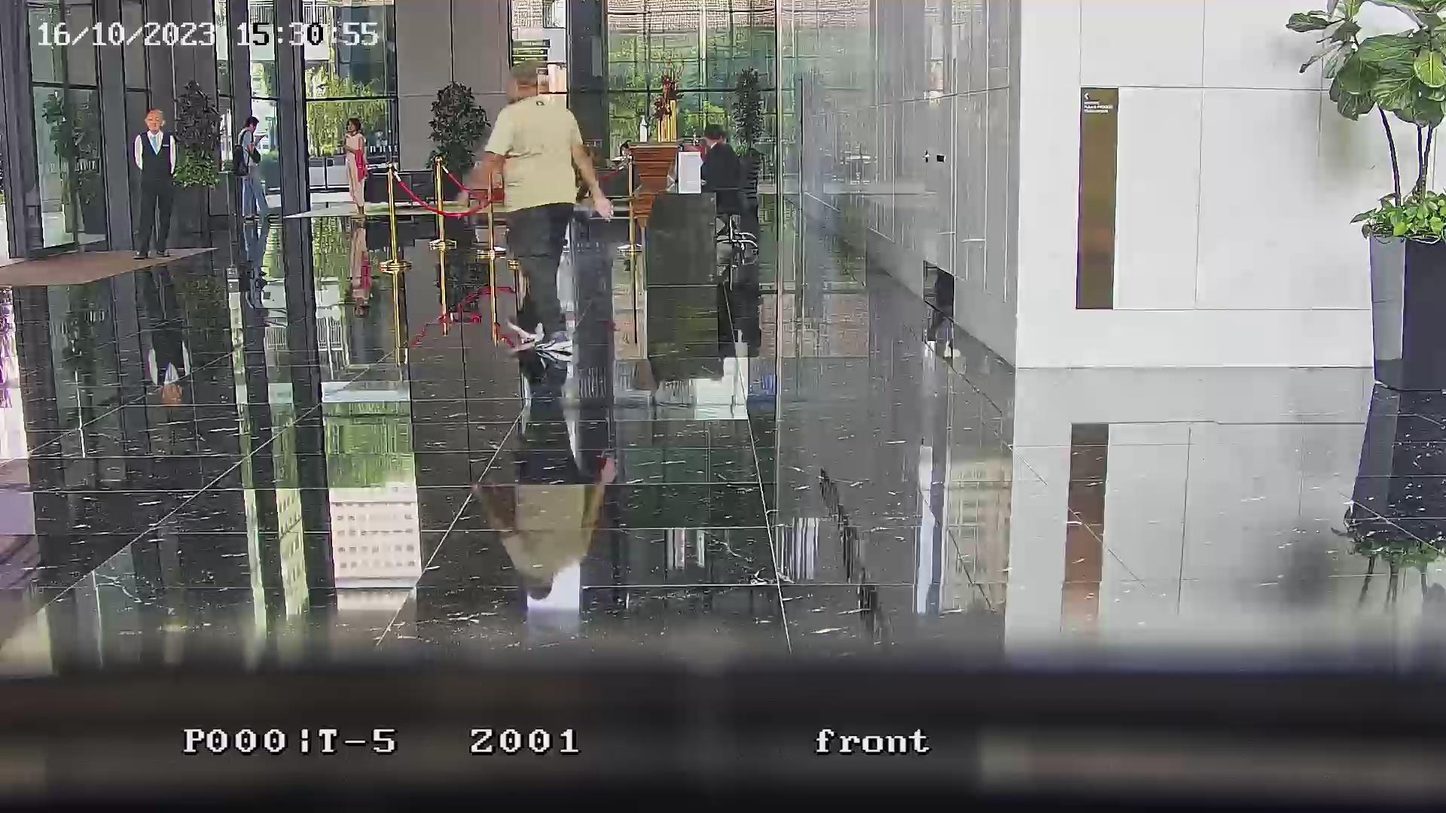person: (480, 59, 614, 356), (130, 107, 178, 258), (236, 113, 268, 223), (700, 126, 743, 188), (342, 116, 368, 217)
